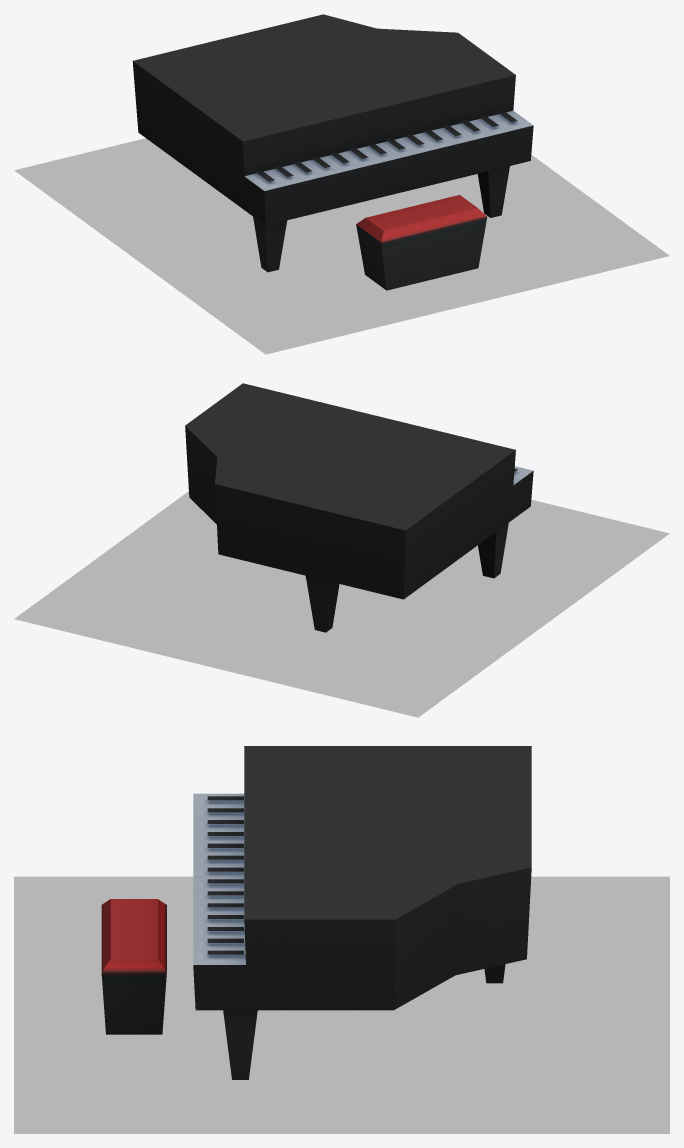
File: 2x2_piano.FBX
3 renders of one model, top to bottom at view 1: azimuth 30°, elevation 25°; view 2: azimuth 150°, elevation 25°; view 3: azimuth 270°, elevation 25°, orthographic. The views are drawn at different scales.
Visible parts, largest first — view 1: 2x2_piano, 2x2_piano_soft_shadow; view 2: 2x2_piano_soft_shadow, 2x2_piano; view 3: 2x2_piano_soft_shadow, 2x2_piano.
Part boxes in pixels (<box>): 2x2_piano: <box>132,14,533,290</box>; 2x2_piano_soft_shadow: <box>14,138,669,354</box>; 2x2_piano_soft_shadow: <box>14,491,669,717</box>; 2x2_piano: <box>185,383,533,632</box>; 2x2_piano_soft_shadow: <box>14,876,669,1133</box>; 2x2_piano: <box>101,746,531,1079</box>.
Size of the model in its own units: 2552 by 810 by 2753.
